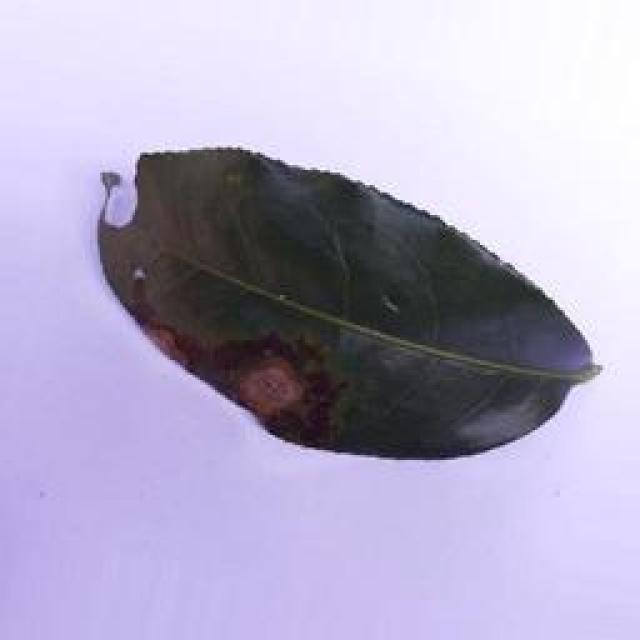Gray Blight: (89, 143, 610, 464)
